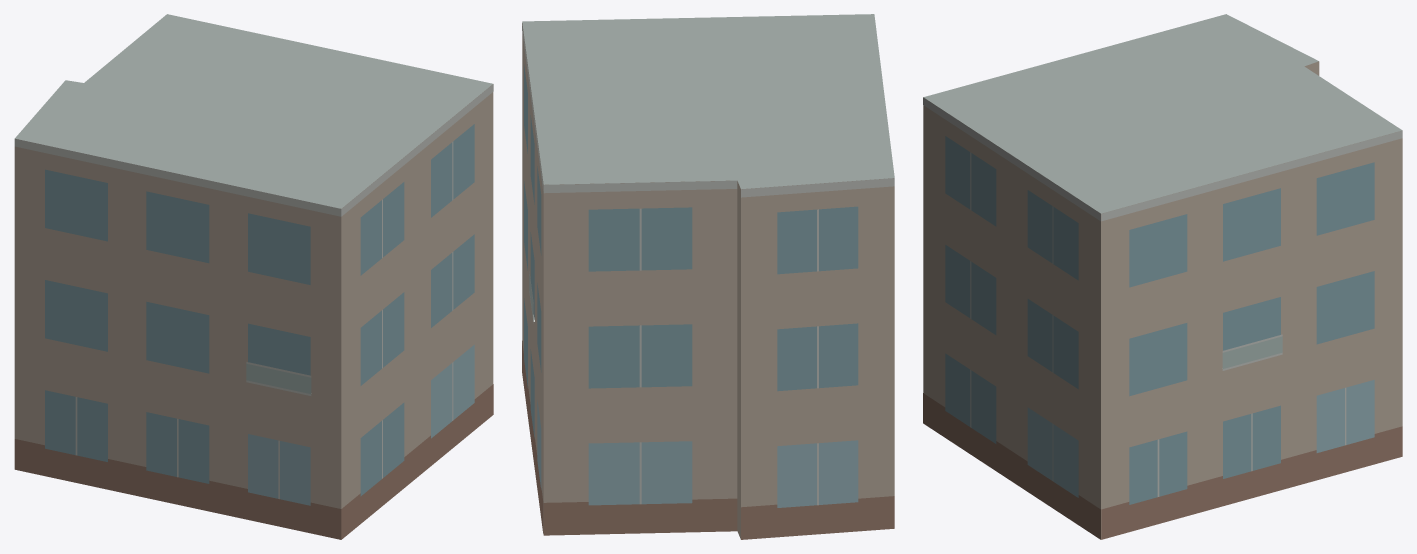
File: survey-upis-32735189.glb
3 views of the same model, side by side, from view 1: azimuth 30°, elevation 25°; view 2: azimuth 150°, elevation 25°; view 3: azimuth 270°, elevation 25° (orthographic). The views are drawn at different scales.
Visible parts, largest first — view 1: survey-upis-32735189.tmp; view 2: survey-upis-32735189.tmp; view 3: survey-upis-32735189.tmp.
Boxes of the visible parts, left/top/right/bottom form: survey-upis-32735189.tmp: left=14, top=14, right=493, bottom=539; survey-upis-32735189.tmp: left=522, top=14, right=894, bottom=539; survey-upis-32735189.tmp: left=923, top=14, right=1402, bottom=539.
Bounding box in the file's own units: 13.4 × 10.2 × 13.59.
